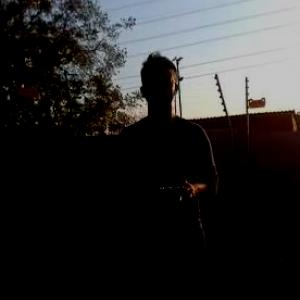follow: (110, 46, 227, 299)
